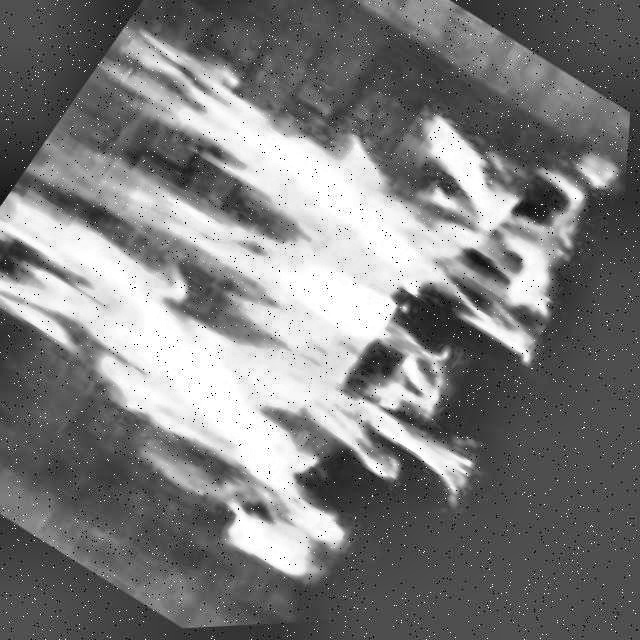Fire: (0, 0, 578, 600)
